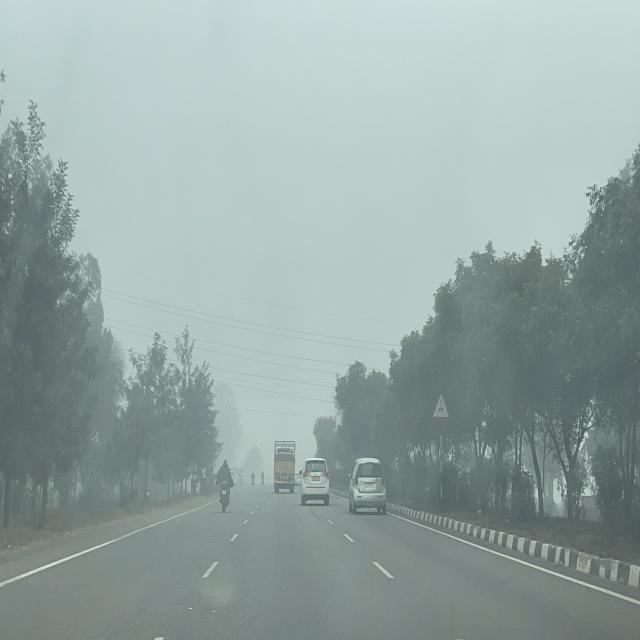WARNING: (431, 392, 451, 421)
